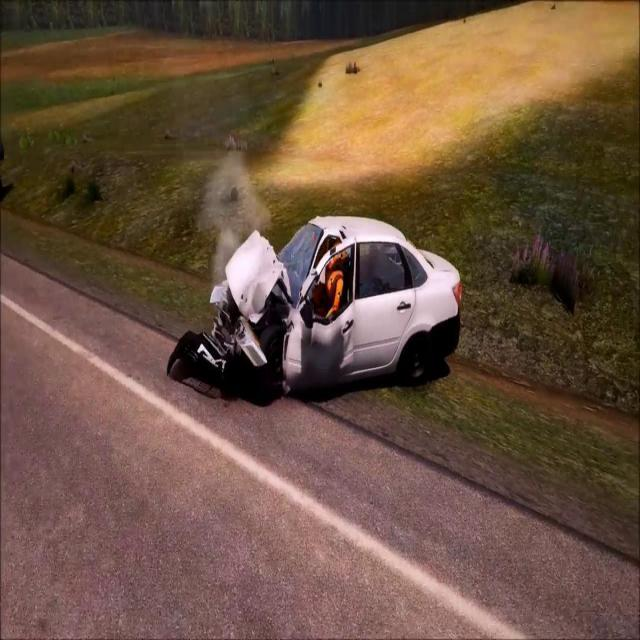accident: (166, 205, 466, 412)
